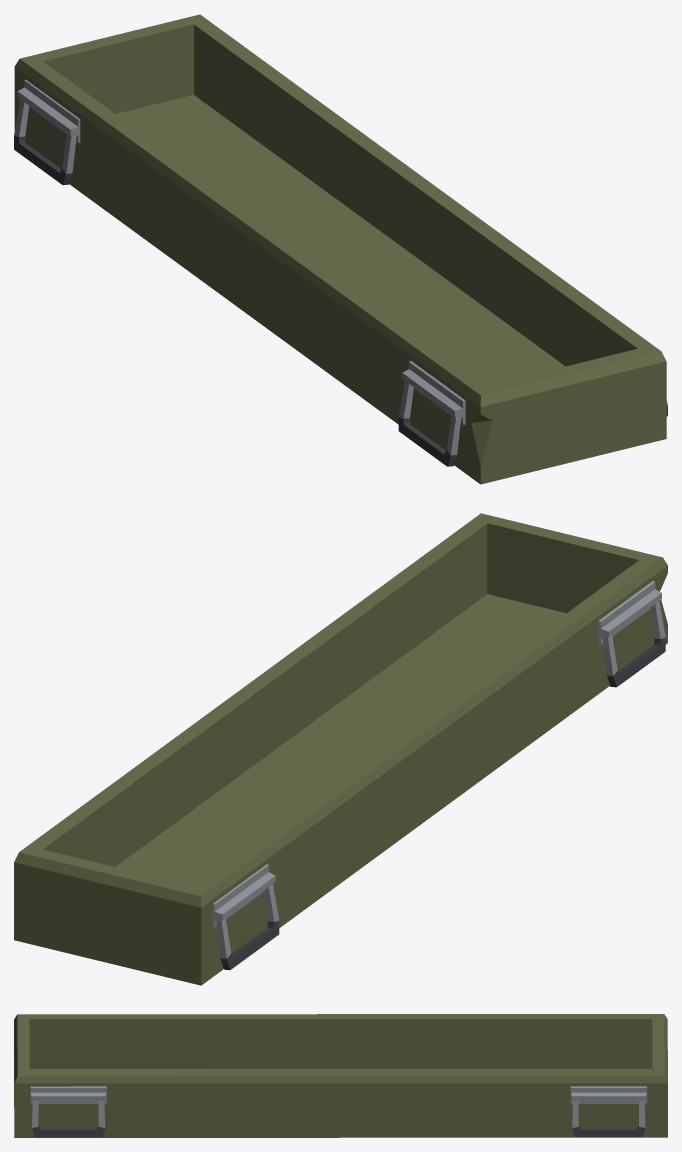
File: SM_Prop_Missle_Crate_02.fbx
3 views of the same model, one above another, from view 1: azimuth 30°, elevation 25°; view 2: azimuth 150°, elevation 25°; view 3: azimuth 270°, elevation 25° (orthographic). The views are drawn at different scales.
Visible parts, largest first — view 1: SM_Prop_Missle_Crate_02; view 2: SM_Prop_Missle_Crate_02; view 3: SM_Prop_Missle_Crate_02.
Boxes of the visible parts, <box> form: SM_Prop_Missle_Crate_02: <box>14,14,667,484</box>; SM_Prop_Missle_Crate_02: <box>14,513,667,985</box>; SM_Prop_Missle_Crate_02: <box>14,1014,667,1137</box>.
Size of the model in its own units: 40.68 by 15.48 by 151.
